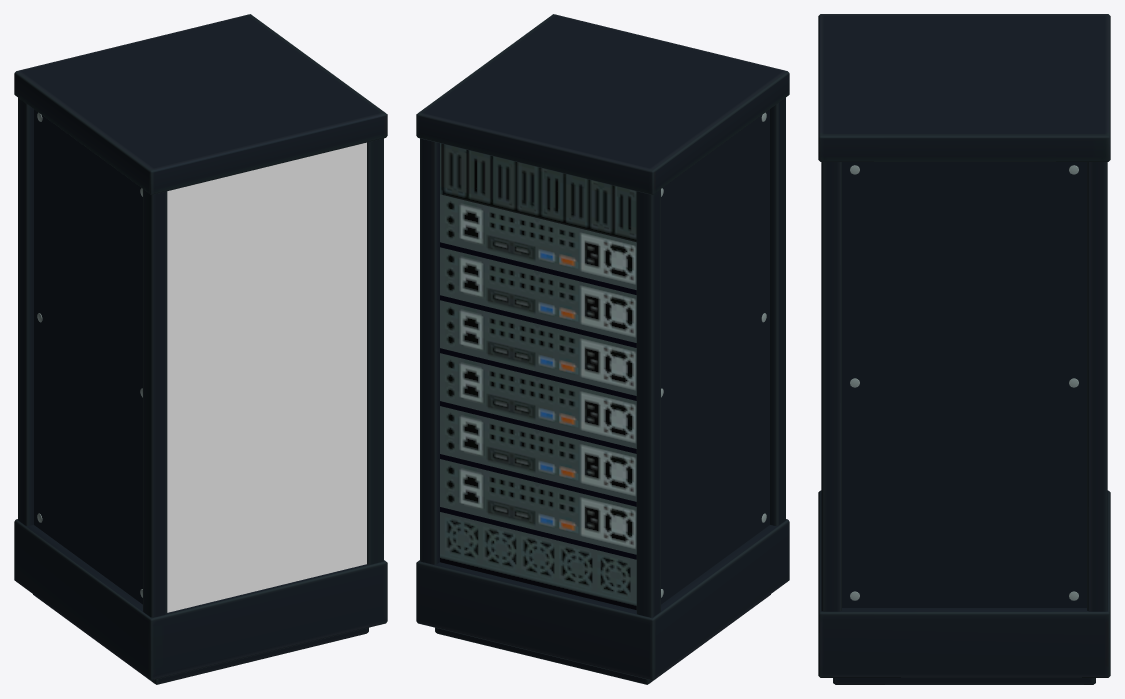
Rendered from FtrServer.glb.
3 renders of one model, left to right at view 1: azimuth 30°, elevation 25°; view 2: azimuth 150°, elevation 25°; view 3: azimuth 270°, elevation 25°, orthographic. The views are drawn at different scales.
Parts seen in each view (by area): view 1: Back00_low__mBody, Glass00_low__mGlass; view 2: Back00_low__mBody; view 3: Back00_low__mBody.
Part boxes in pixels (left/top/right/bottom): Back00_low__mBody: left=14, top=14, right=387, bottom=684; Glass00_low__mGlass: left=167, top=142, right=366, bottom=612; Back00_low__mBody: left=416, top=14, right=789, bottom=684; Back00_low__mBody: left=818, top=14, right=1110, bottom=684.
Size of the model in its own units: 10 by 21 by 10.
Materials: 2 (2 with a texture image).
